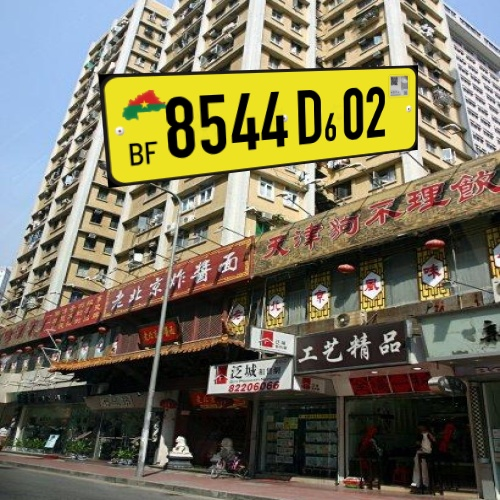plate: (93, 52, 428, 198)
